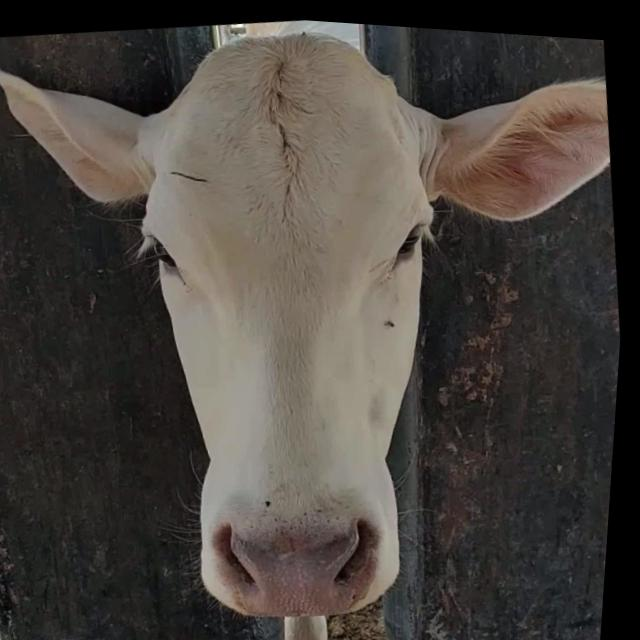cowFace: (104, 8, 491, 630)
